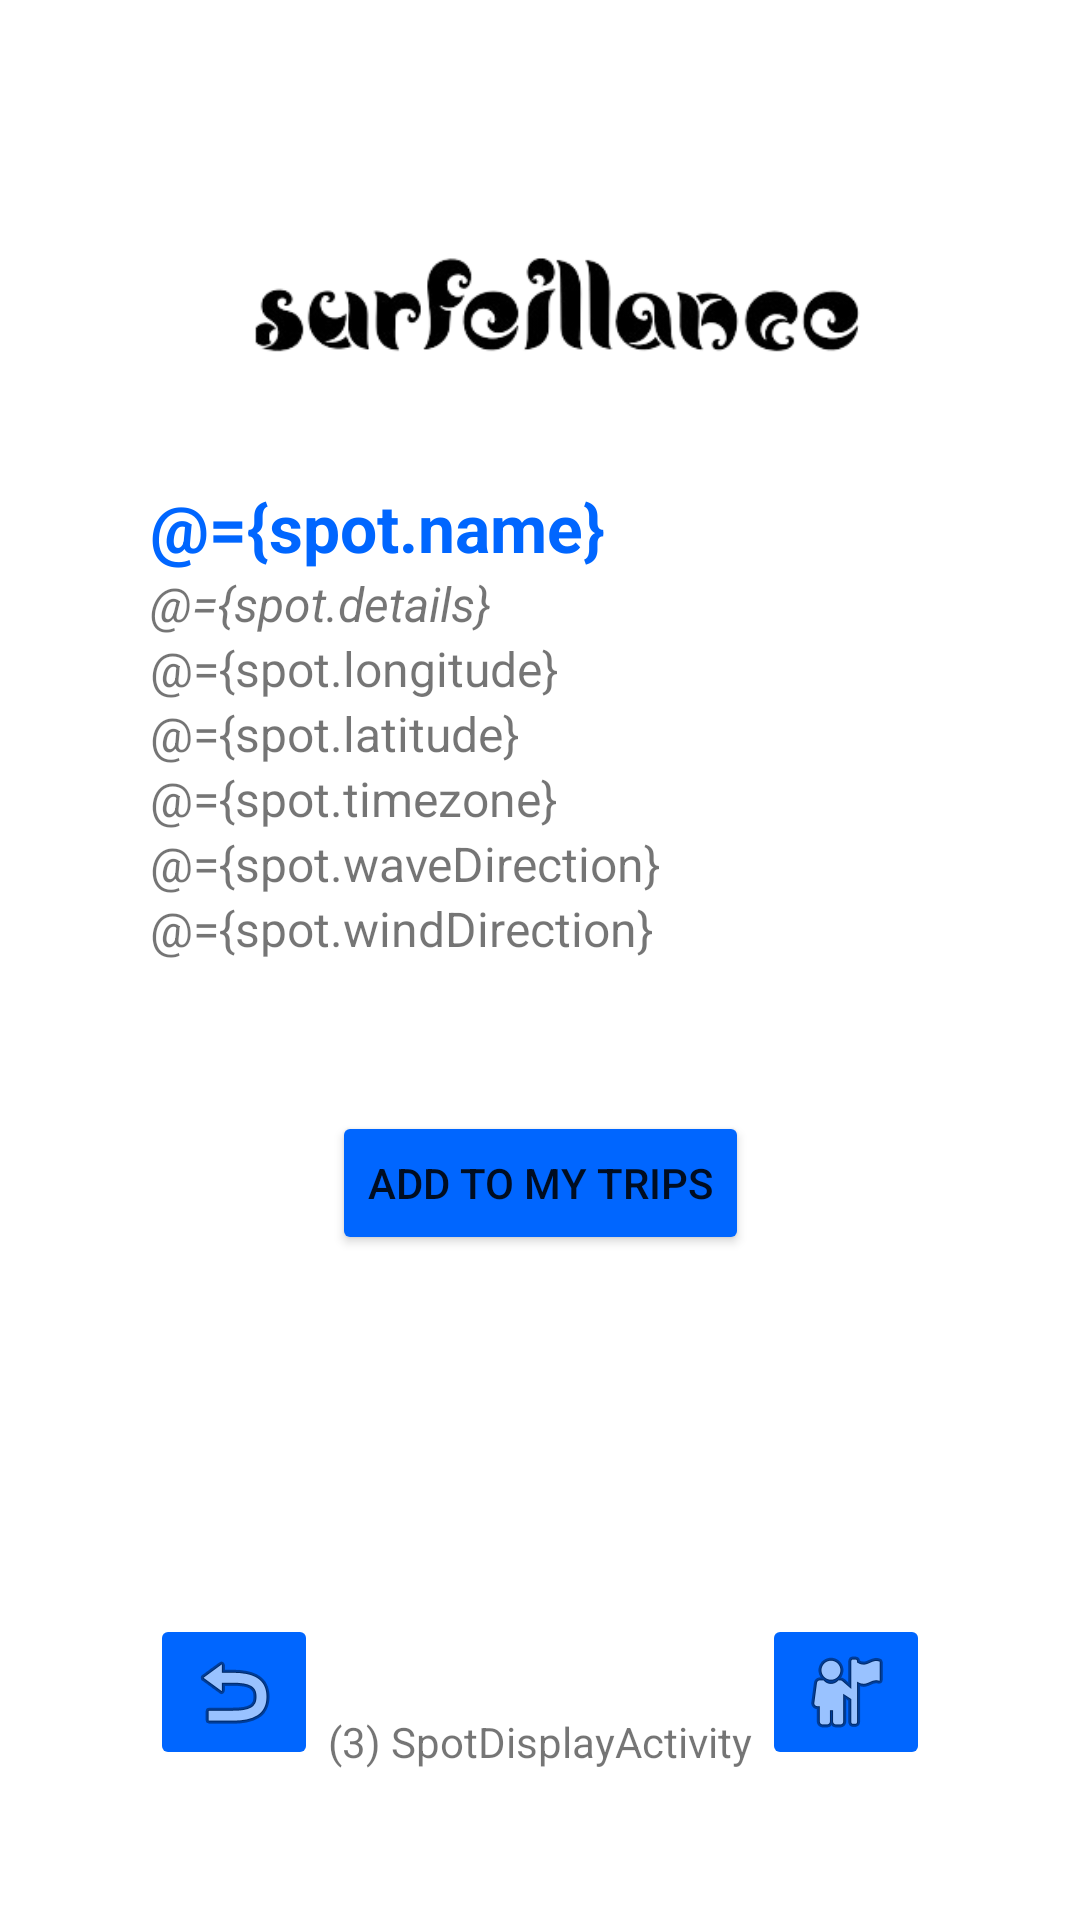

Icon click points for this 1080 × 1920 phone screenshot, format (x,y):
myplaces: (846,1692)
revert: (234,1692)
